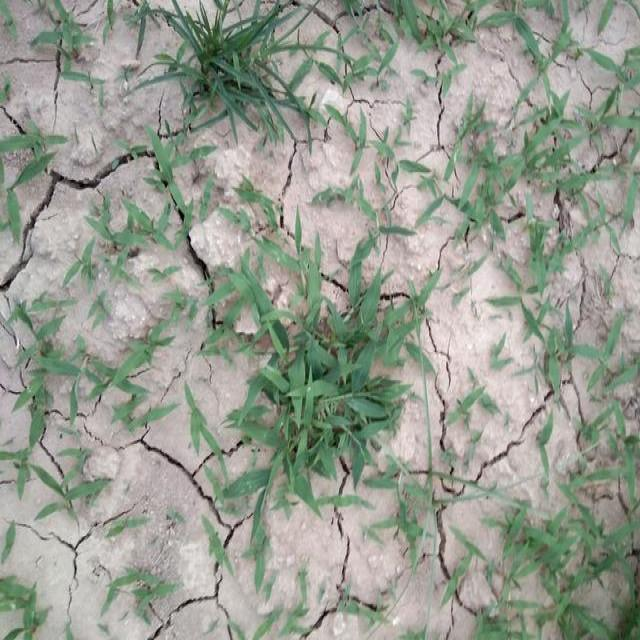weed: (232, 234, 435, 523), (15, 306, 172, 495), (152, 8, 318, 152), (418, 103, 584, 232), (5, 102, 55, 239)
